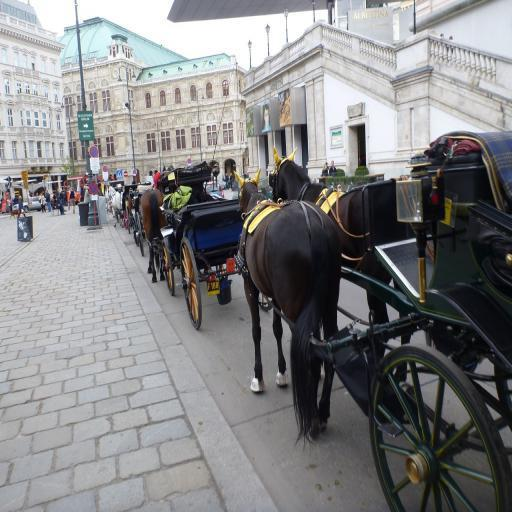horse: (234, 168, 342, 452), (272, 146, 396, 364), (138, 189, 168, 285), (107, 184, 125, 228)
